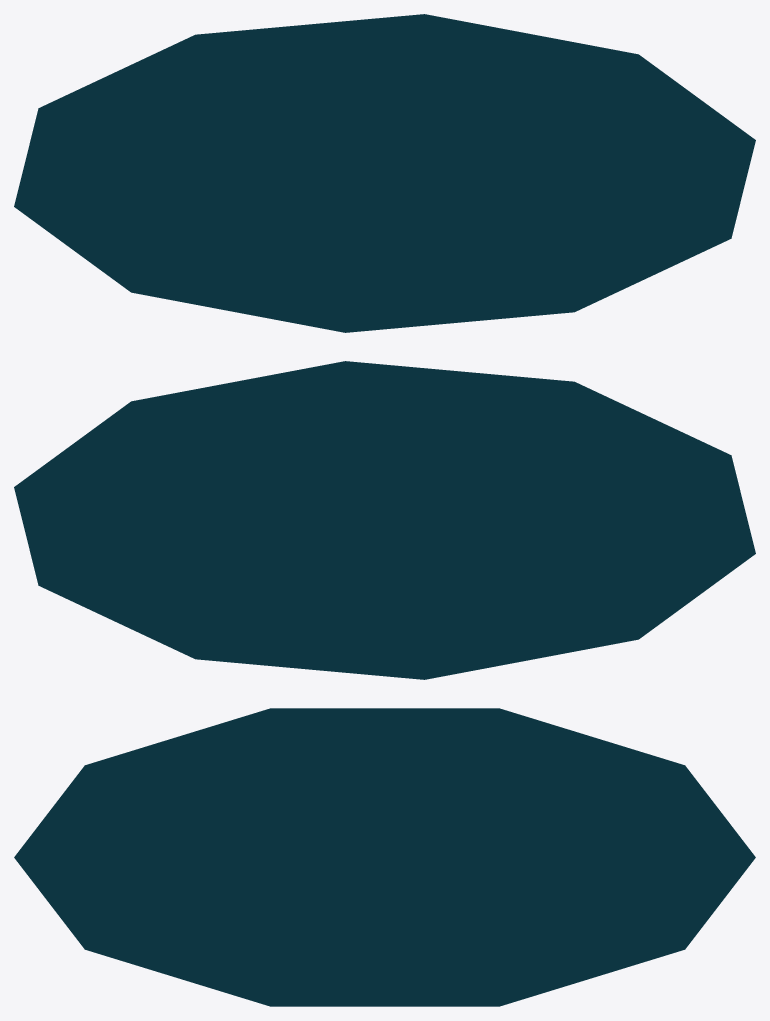
Rendered from LK_contact_shadow.glb.
3 renders of one model, top to bottom at view 1: azimuth 30°, elevation 25°; view 2: azimuth 150°, elevation 25°; view 3: azimuth 270°, elevation 25°, orthographic. The views are drawn at different scales.
Parts seen in each view (by area): view 1: LK_contact_shadow; view 2: LK_contact_shadow; view 3: LK_contact_shadow.
Part boxes in pixels (x1,y1,x2,y2): LK_contact_shadow: (14, 14, 755, 332); LK_contact_shadow: (14, 361, 755, 679); LK_contact_shadow: (14, 708, 755, 1006).
Size of the model in its own units: 0.6848 by 0 by 0.72.
